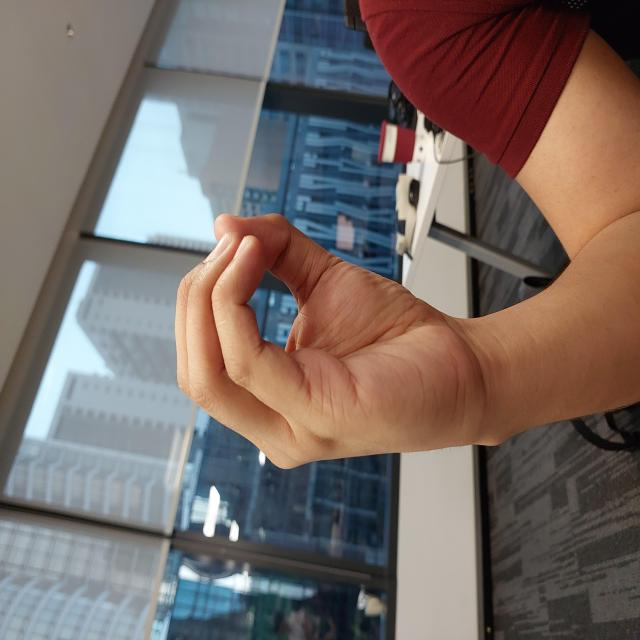O: (168, 172, 429, 485)
